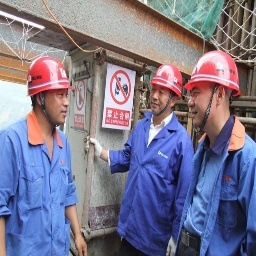helmet: (184, 47, 241, 91), (24, 54, 74, 92), (149, 62, 185, 101)
no-vest: (1, 119, 78, 256), (126, 111, 187, 256), (189, 133, 256, 256)
person: (2, 58, 87, 256), (185, 49, 256, 253), (122, 63, 191, 256)
